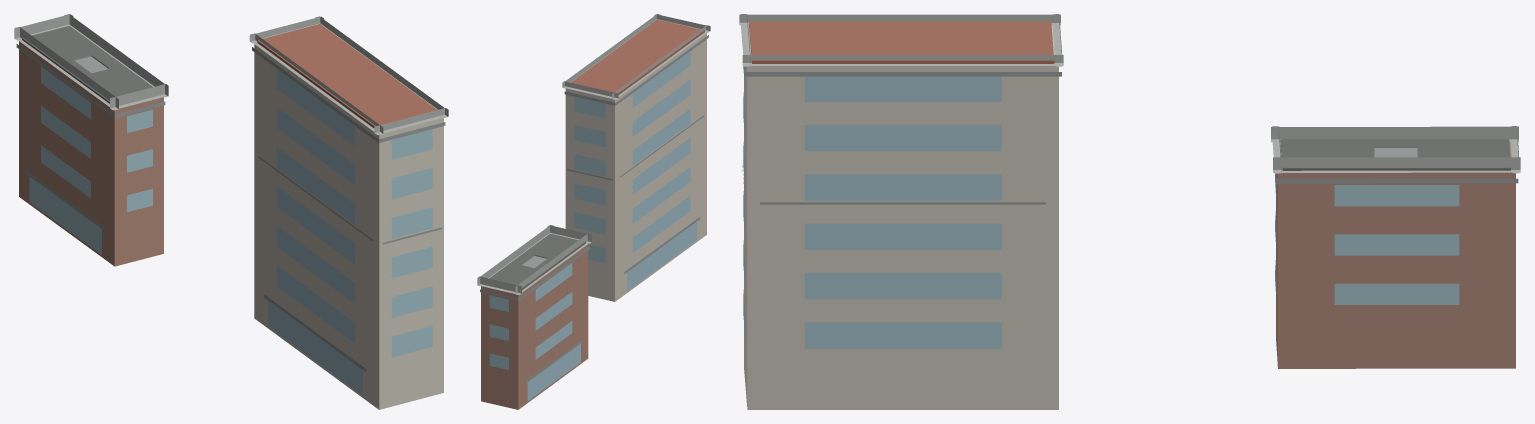
3 renders of one model, left to right at view 1: azimuth 30°, elevation 25°; view 2: azimuth 150°, elevation 25°; view 3: azimuth 270°, elevation 25°, orthographic. The views are drawn at different scales.
Visible parts, largest first — view 1: building-1764-mesh-0, building-1764-mesh-1, building-1766-mesh-5, building-1764-mesh-3, building-1766-mesh-6, building-1766-mesh-9, building-1764-mesh-4, building-1766-mesh-8, building-1764-mesh-2, building-1766-mesh-7; view 2: building-1764-mesh-0, building-1764-mesh-1, building-1766-mesh-5, building-1764-mesh-3, building-1766-mesh-6, building-1766-mesh-9, building-1764-mesh-4, building-1766-mesh-8, building-1764-mesh-2, building-1766-mesh-7; view 3: building-1764-mesh-0, building-1766-mesh-5, building-1764-mesh-1, building-1764-mesh-3, building-1766-mesh-6, building-1766-mesh-9, building-1764-mesh-4, building-1766-mesh-8, building-1764-mesh-2, building-1766-mesh-7.
Boxes of the visible parts, x1,y1,x2,y2 form: building-1764-mesh-0: (254, 44, 443, 409); building-1764-mesh-1: (268, 69, 432, 395); building-1766-mesh-5: (19, 41, 163, 266); building-1764-mesh-3: (257, 24, 436, 128); building-1766-mesh-6: (29, 66, 152, 254); building-1766-mesh-9: (14, 14, 168, 110); building-1764-mesh-4: (249, 16, 448, 134); building-1766-mesh-8: (22, 26, 152, 103); building-1764-mesh-2: (252, 47, 445, 371); building-1766-mesh-7: (16, 44, 165, 230); building-1764-mesh-0: (565, 33, 706, 301); building-1764-mesh-1: (574, 51, 696, 291); building-1766-mesh-5: (481, 244, 588, 409); building-1764-mesh-3: (571, 19, 704, 94); building-1766-mesh-6: (489, 263, 580, 400); building-1766-mesh-9: (477, 225, 591, 294); building-1764-mesh-4: (562, 14, 710, 99); building-1766-mesh-8: (489, 233, 585, 289); building-1764-mesh-2: (564, 35, 708, 273); building-1766-mesh-7: (480, 246, 589, 383); building-1764-mesh-0: (744, 25, 1058, 409); building-1766-mesh-5: (1276, 142, 1515, 368); building-1764-mesh-1: (743, 66, 1001, 348); building-1764-mesh-3: (749, 21, 1054, 63); building-1766-mesh-6: (1275, 173, 1459, 304); building-1766-mesh-9: (1271, 126, 1520, 173); building-1764-mesh-4: (739, 14, 1063, 66); building-1766-mesh-8: (1280, 139, 1510, 170); building-1764-mesh-2: (742, 67, 1061, 204); building-1766-mesh-7: (1275, 174, 1518, 183).
Bounding box in the file's own units: 11.07 × 24 × 48.07.
